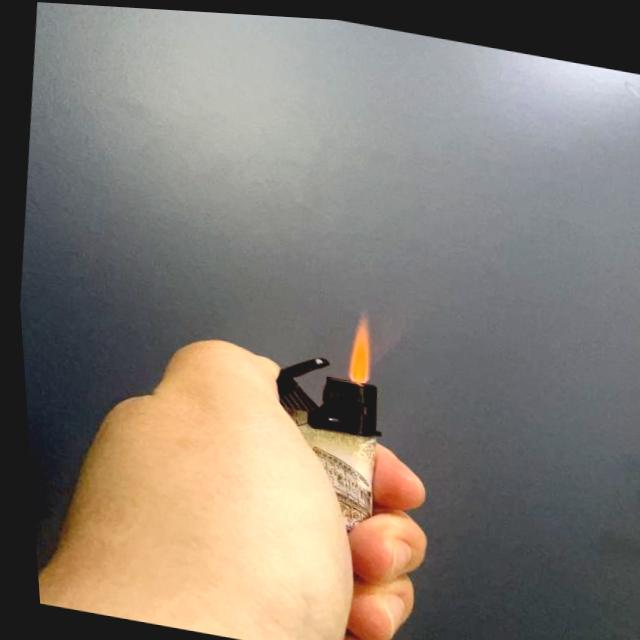Fire: (335, 302, 380, 383)
